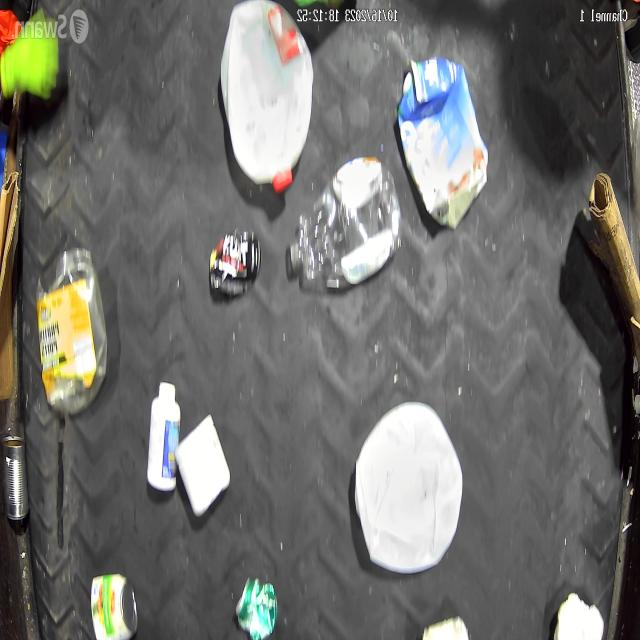can: (90, 572, 138, 640), (208, 233, 260, 295), (235, 575, 278, 640), (0, 434, 30, 522)
milk_jug: (354, 400, 464, 573), (220, 0, 313, 190)
non_white_jug: (396, 58, 489, 230)
plastic_bottle: (289, 157, 401, 293)
